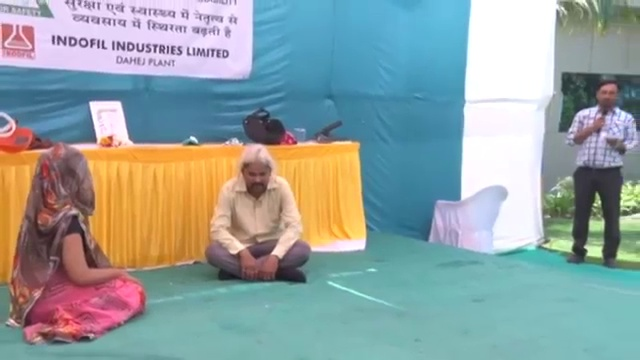helmet_off: (34, 147, 96, 216), (240, 144, 275, 196), (596, 79, 619, 110)
person: (5, 145, 144, 346), (206, 142, 311, 285), (567, 79, 640, 267)
